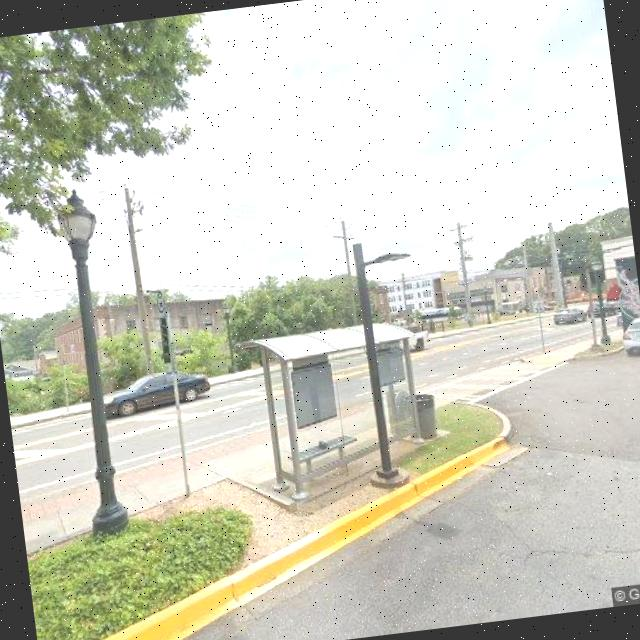seating: (284, 432, 362, 485)
shelter: (236, 318, 433, 508)
trash_can: (412, 392, 439, 439)
